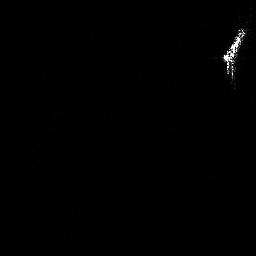ship: (223, 26, 246, 82)
